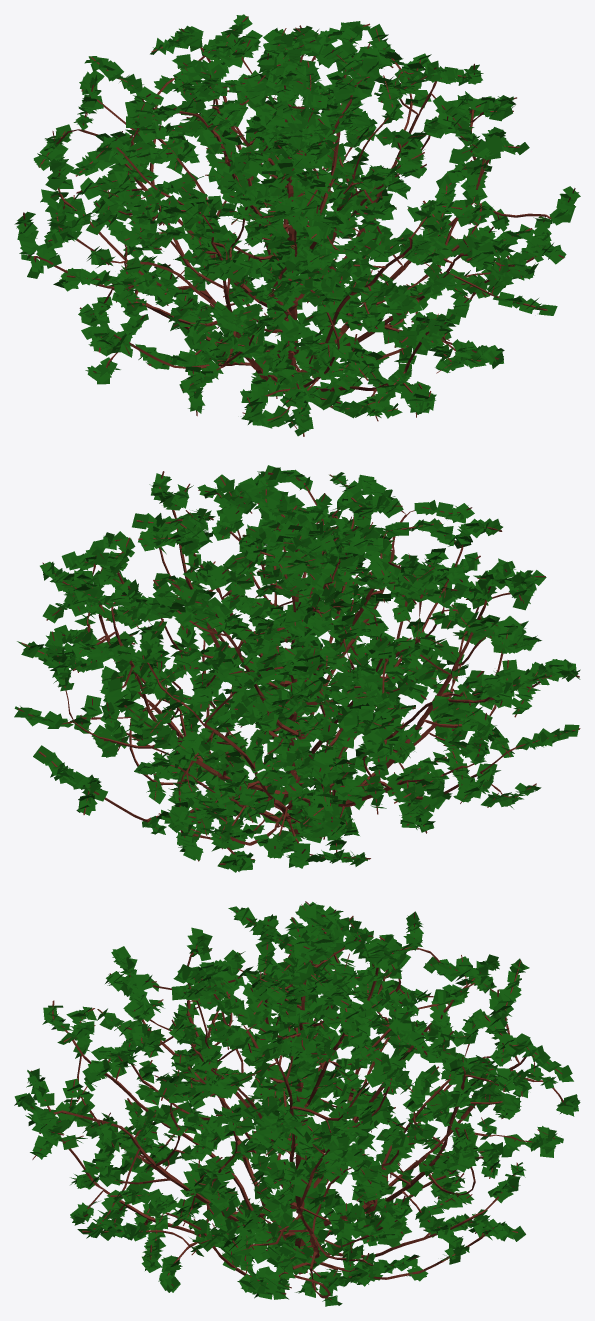
File: bush_without_fruits.fbx
3 views of the same model, one above another, from view 1: azimuth 30°, elevation 25°; view 2: azimuth 150°, elevation 25°; view 3: azimuth 270°, elevation 25° (orthographic). The views are drawn at different scales.
Visible parts, largest first — view 1: Leaves.002, Tree.002; view 2: Leaves.002, Tree.002; view 3: Leaves.002, Tree.002.
Part boxes in pixels (x1=…): Leaves.002: x1=14, y1=14, x2=580, y2=436; Tree.002: x1=23, y1=16, x2=575, y2=436; Leaves.002: x1=14, y1=465, x2=580, y2=872; Tree.002: x1=18, y1=471, x2=580, y2=864; Leaves.002: x1=14, y1=902, x2=580, y2=1306; Tree.002: x1=30, y1=901, x2=565, y2=1304.
Size of the model in its own units: 259 by 174 by 258.
